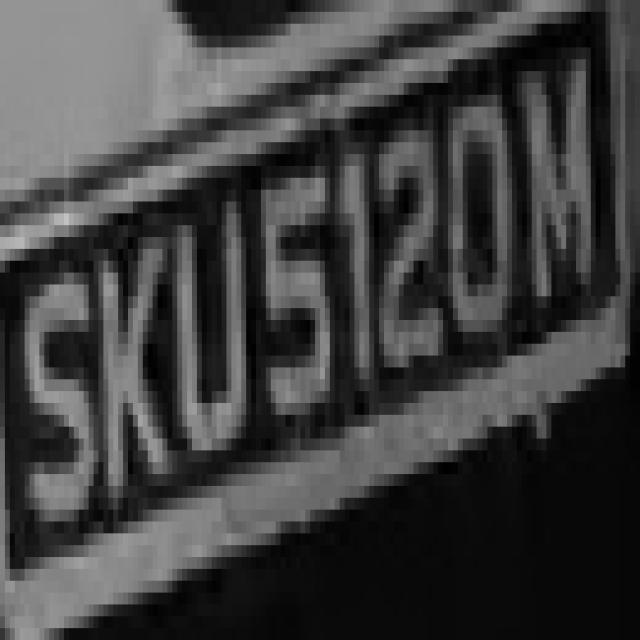0: (438, 71, 522, 391)
1: (330, 95, 384, 486)
2: (369, 83, 438, 415)
5: (251, 130, 335, 450)
K: (94, 202, 177, 545)
M: (512, 35, 606, 332)
S: (15, 249, 103, 557)
U: (158, 142, 246, 486)
